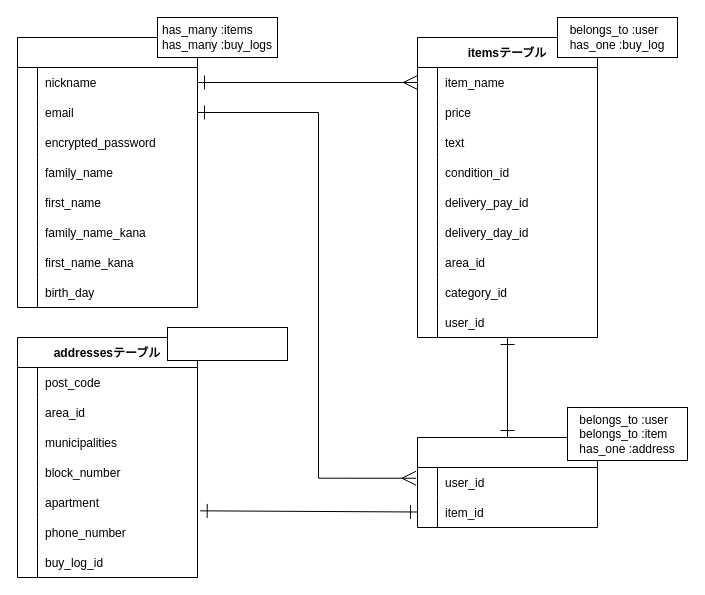
Image size: 705x595. Some labels were removed from this diagram. The box of each missing label's shape, as (x1, y1, x2, y2) in pixels:
belongs_to :buy_log: (166, 326, 288, 360)
buy_logsテーブル: (416, 436, 598, 528)
usersテーブル: (16, 36, 198, 308)
